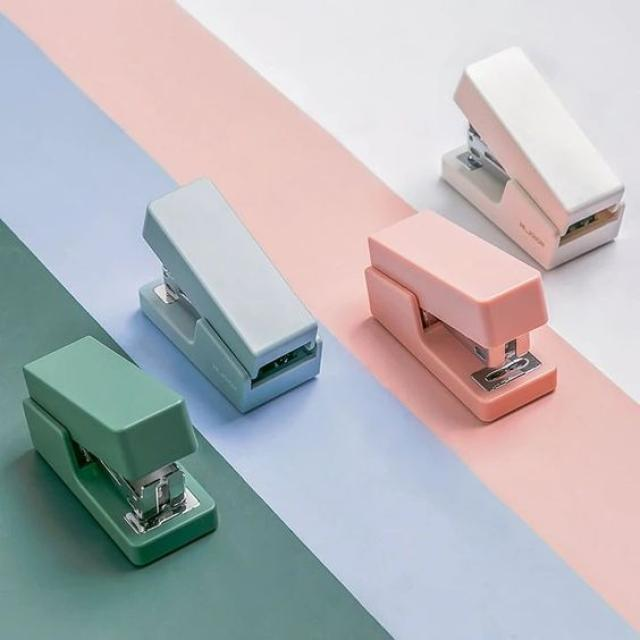Stapler: (5, 312, 232, 592)
